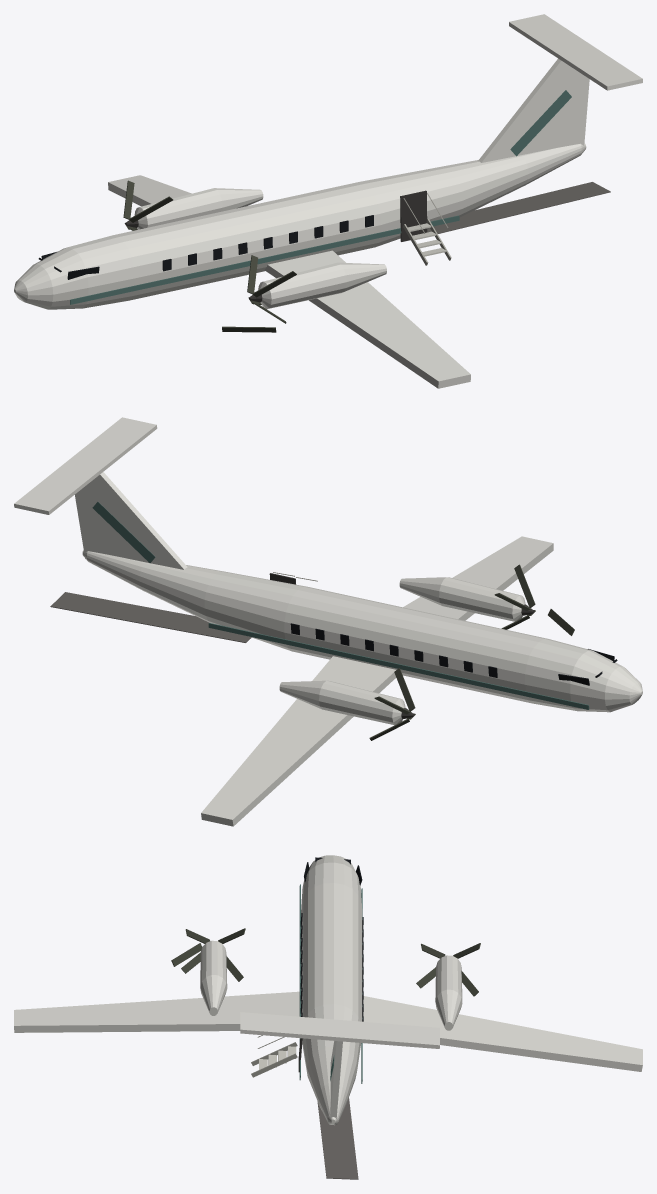
Rendered from airport_plane.glb.
3 views of the same model, one above another, from view 1: azimuth 30°, elevation 25°; view 2: azimuth 150°, elevation 25°; view 3: azimuth 270°, elevation 25° (orthographic). The views are drawn at different scales.
Parts seen in each view (by area): view 1: airport_plane; view 2: airport_plane; view 3: airport_plane.
Part boxes in pixels (bbox=[...]): airport_plane: bbox=[14, 14, 642, 388]; airport_plane: bbox=[14, 417, 642, 826]; airport_plane: bbox=[14, 855, 642, 1179].
Bounding box in the file's own units: 18.29 × 5.54 × 17.61.
